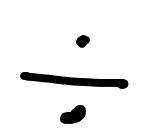div: (21, 35, 129, 125)
